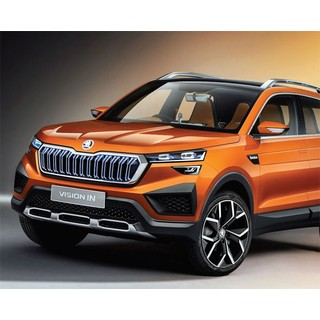car: (9, 75, 320, 280)
